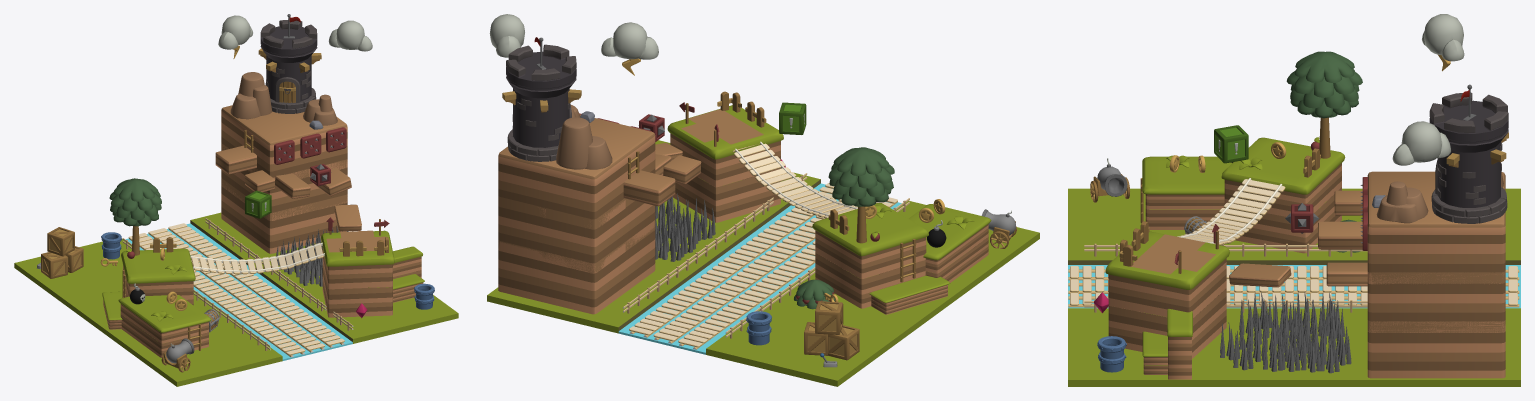
Rendered from tile-3.glb.
3 renders of one model, left to right at view 1: azimuth 30°, elevation 25°; view 2: azimuth 150°, elevation 25°; view 3: azimuth 270°, elevation 25°, orthographic. The views are drawn at different scales.
Visible parts, largest first — view 1: Plane, Cube_Grass_CornerCenter_Tall_Cube.014, roads, Cube_Grass_CornerCenter_Tall_Cube.001, Tower, Cube_Grass_CornerCenter_Tall_Cube.002, Cube_Grass_CornerCenter_Tall_Cube.386, Tree_Cube.118, RockPlatforms_1, Spikes.005, Cloud_2.001, Cube_Dirt_Single_Cube.003 (+20 smaller); view 2: Cube_Grass_CornerCenter_Tall_Cube.014, Plane, roads, Cube_Grass_CornerCenter_Tall_Cube.386, Tower, Cube_Grass_CornerCenter_Tall_Cube.001, Cube_Grass_CornerCenter_Tall_Cube.002, Tree_Cube.118, Spikes.005, RockPlatforms_1, Cube_Grass_CornerCenter_Tall_Cube.009, Cube_Dirt_Center_Tall (+13 smaller); view 3: Cube_Grass_CornerCenter_Tall_Cube.014, Plane, Cube_Grass_CornerCenter_Tall_Cube.001, Tower, Cube_Grass_CornerCenter_Tall_Cube.386, Spikes.005, Cube_Grass_CornerCenter_Tall_Cube.002, roads, Tree_Cube.118, Cube_Dirt_Center_Tall, Cloud_2.001, Cube_Grass_CornerCenter_Tall_Cube.003 (+15 smaller).
Part boxes in pixels (x1=…): Plane: x1=14, y1=212, x2=458, y2=386; Cube_Grass_CornerCenter_Tall_Cube.014: x1=221, y1=105, x2=347, y2=253; roads: x1=128, y1=223, x2=344, y2=357; Cube_Grass_CornerCenter_Tall_Cube.001: x1=321, y1=230, x2=394, y2=317; Tower: x1=258, y1=14, x2=321, y2=113; Cube_Grass_CornerCenter_Tall_Cube.002: x1=118, y1=295, x2=211, y2=357; Cube_Grass_CornerCenter_Tall_Cube.386: x1=121, y1=248, x2=195, y2=305; Tree_Cube.118: x1=109, y1=178, x2=161, y2=255; RockPlatforms_1: x1=230, y1=72, x2=272, y2=119; Spikes.005: x1=276, y1=225, x2=352, y2=286; Cloud_2.001: x1=328, y1=20, x2=372, y2=51; Cube_Dirt_Single_Cube.003: x1=215, y1=145, x2=256, y2=174; Cube_Grass_CornerCenter_Tall_Cube.014: x1=498, y1=114, x2=655, y2=314; Plane: x1=487, y1=172, x2=1039, y2=386; roads: x1=629, y1=183, x2=897, y2=349; Cube_Grass_CornerCenter_Tall_Cube.386: x1=812, y1=203, x2=928, y2=308; Tower: x1=502, y1=37, x2=581, y2=161; Cube_Grass_CornerCenter_Tall_Cube.001: x1=667, y1=105, x2=783, y2=222; Cube_Grass_CornerCenter_Tall_Cube.002: x1=908, y1=204, x2=991, y2=282; Tree_Cube.118: x1=828, y1=147, x2=894, y2=243; Spikes.005: x1=655, y1=193, x2=715, y2=261; RockPlatforms_1: x1=556, y1=117, x2=612, y2=169; Cube_Grass_CornerCenter_Tall_Cube.009: x1=869, y1=275, x2=950, y2=314; Cube_Dirt_Center_Tall: x1=681, y1=109, x2=763, y2=144; Cube_Grass_CornerCenter_Tall_Cube.014: x1=1367, y1=171, x2=1505, y2=378; Plane: x1=1068, y1=188, x2=1520, y2=386; Cube_Grass_CornerCenter_Tall_Cube.001: x1=1105, y1=231, x2=1229, y2=358; Tower: x1=1429, y1=84, x2=1508, y2=223; Cube_Grass_CornerCenter_Tall_Cube.386: x1=1221, y1=137, x2=1345, y2=253; Spikes.005: x1=1220, y1=291, x2=1351, y2=373; Cube_Grass_CornerCenter_Tall_Cube.002: x1=1142, y1=156, x2=1231, y2=229; roads: x1=1068, y1=266, x2=1519, y2=307; Tree_Cube.118: x1=1286, y1=51, x2=1362, y2=158; Cube_Dirt_Center_Tall: x1=1130, y1=234, x2=1215, y2=274; Cloud_2.001: x1=1392, y1=121, x2=1450, y2=165; Cube_Grass_CornerCenter_Tall_Cube.003: x1=1167, y1=309, x2=1192, y2=379.
Bounding box in the file's own units: 22.4 × 15.2 × 20.
